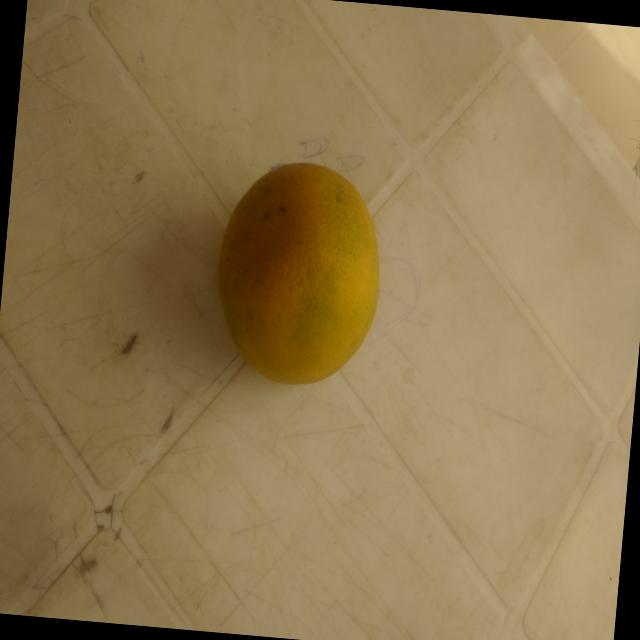Ripe orange: (194, 142, 406, 404)
